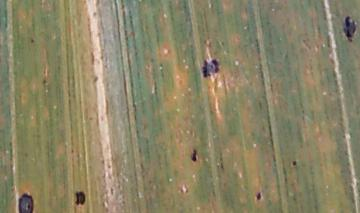tarspot: (341, 14, 357, 44), (200, 57, 220, 79), (15, 193, 33, 213), (73, 190, 86, 207), (190, 148, 198, 163), (255, 190, 262, 200), (28, 37, 35, 44), (291, 159, 297, 167)
